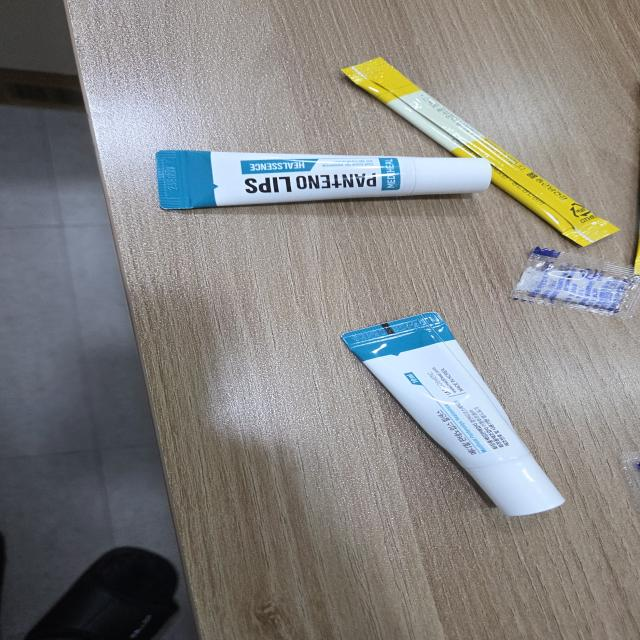lacto: (332, 50, 628, 252), (629, 230, 640, 276)
lip: (333, 305, 577, 529), (145, 148, 493, 221)
salt: (499, 246, 640, 324), (614, 447, 640, 502)
